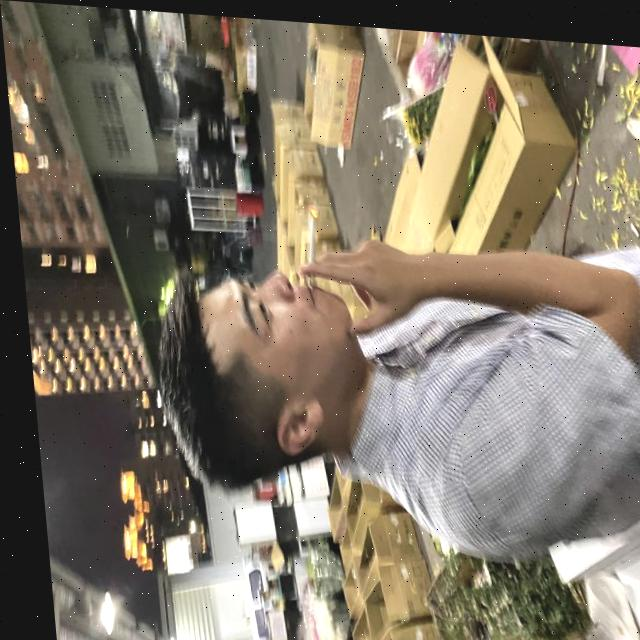cigarette: (298, 202, 319, 280)
